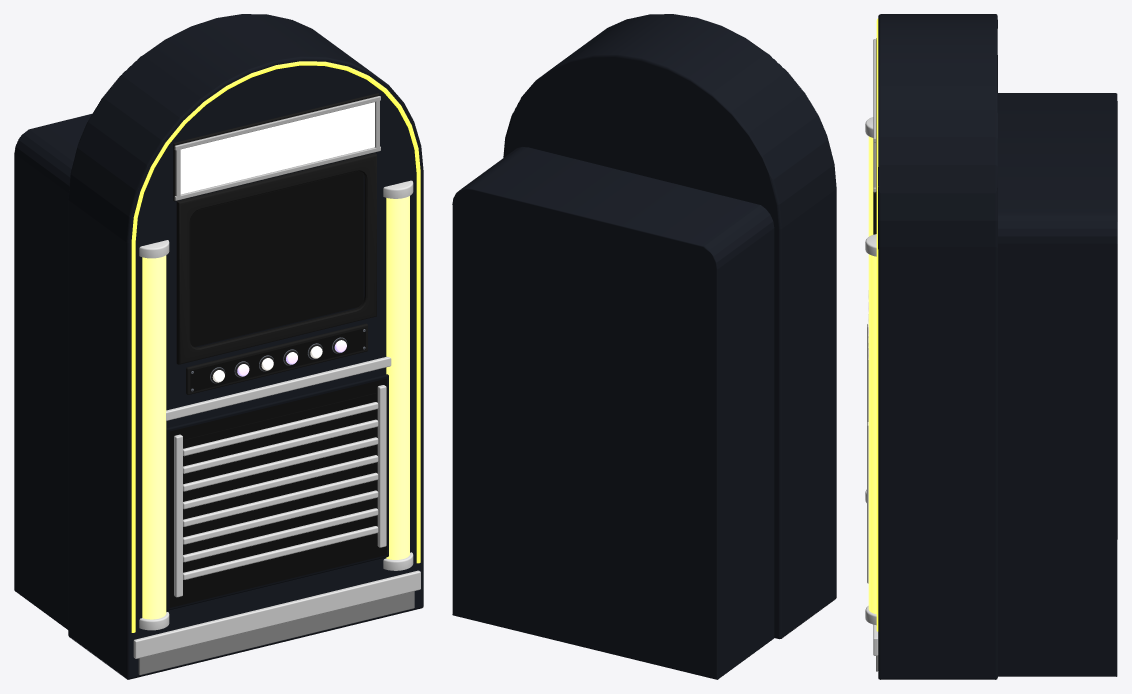
File: mach-hookline.glb
3 views of the same model, side by side, from view 1: azimuth 30°, elevation 25°; view 2: azimuth 150°, elevation 25°; view 3: azimuth 270°, elevation 25° (orthographic). The views are drawn at different scales.
Visible parts, largest first — view 1: side_art_l, body, speaker, screen, glass, metal, controls, pilaster_l, marquee, pilaster_r, front_art, trim (+2 smaller); view 2: body, side_art_l, side_art_r; view 3: side_art_r, body, pilaster_r, metal, trim, side_art_l, pilaster_l.
Boxes of the visible parts, box(x1,y1,x2,y2) form: side_art_l: box(14, 55, 200, 679); body: box(20, 14, 423, 679); speaker: box(183, 393, 378, 586); screen: box(189, 171, 363, 346); glass: box(191, 171, 365, 348); metal: box(133, 96, 420, 675); controls: box(173, 93, 379, 394); pilaster_l: box(142, 255, 166, 619); marquee: box(180, 102, 374, 194); pilaster_r: box(386, 196, 409, 559); front_art: box(169, 378, 386, 607); trim: box(131, 61, 420, 632); body: box(452, 14, 781, 679); side_art_l: box(705, 53, 836, 679); side_art_r: box(452, 19, 627, 614); side_art_r: box(878, 85, 1117, 679); body: box(878, 14, 1117, 678); pilaster_r: box(868, 254, 876, 614); metal: box(865, 39, 878, 671); trim: box(876, 18, 878, 631); side_art_l: box(881, 14, 1117, 539); pilaster_l: box(868, 136, 873, 236).
Bounding box in the file's own units: 0.8516 × 1.6 × 0.6322.
